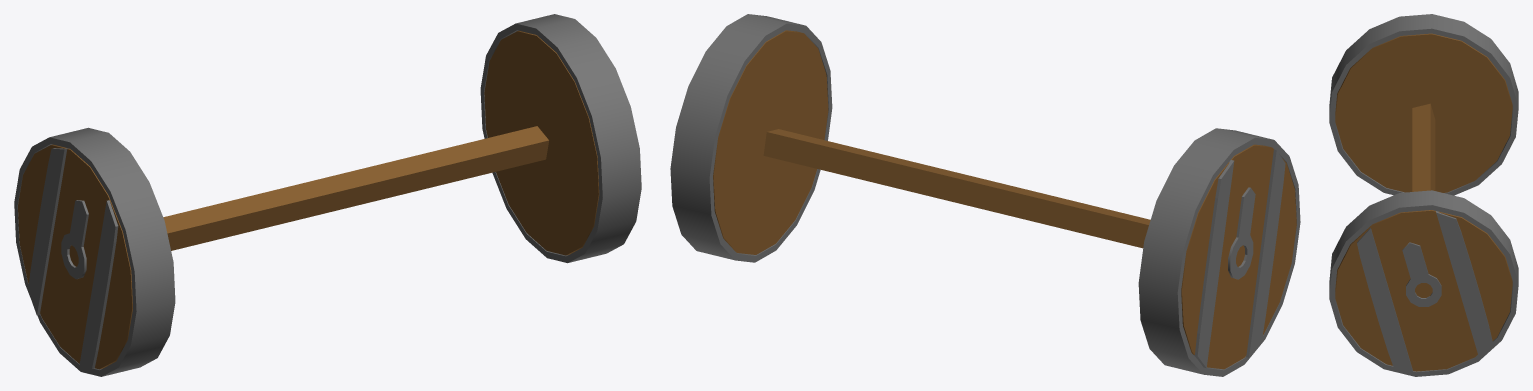
Rendered from SM_cart_wagon_wheels.fbx.
3 renders of one model, left to right at view 1: azimuth 30°, elevation 25°; view 2: azimuth 150°, elevation 25°; view 3: azimuth 270°, elevation 25°, orthographic. The views are drawn at different scales.
Visible parts, largest first — view 1: cart_wagon_wheels; view 2: cart_wagon_wheels; view 3: cart_wagon_wheels.
Part boxes in pixels (<box>): cart_wagon_wheels: <box>14,14,641,376</box>; cart_wagon_wheels: <box>670,14,1300,376</box>; cart_wagon_wheels: <box>1329,14,1518,376</box>.
Size of the model in its own units: 237 by 98.19 by 98.19.
